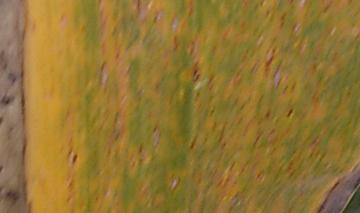tarspot: (1, 93, 15, 105), (191, 68, 201, 82), (188, 134, 195, 151), (285, 106, 294, 119), (71, 153, 79, 165), (134, 1, 141, 11), (1, 114, 5, 128), (1, 163, 5, 173)
